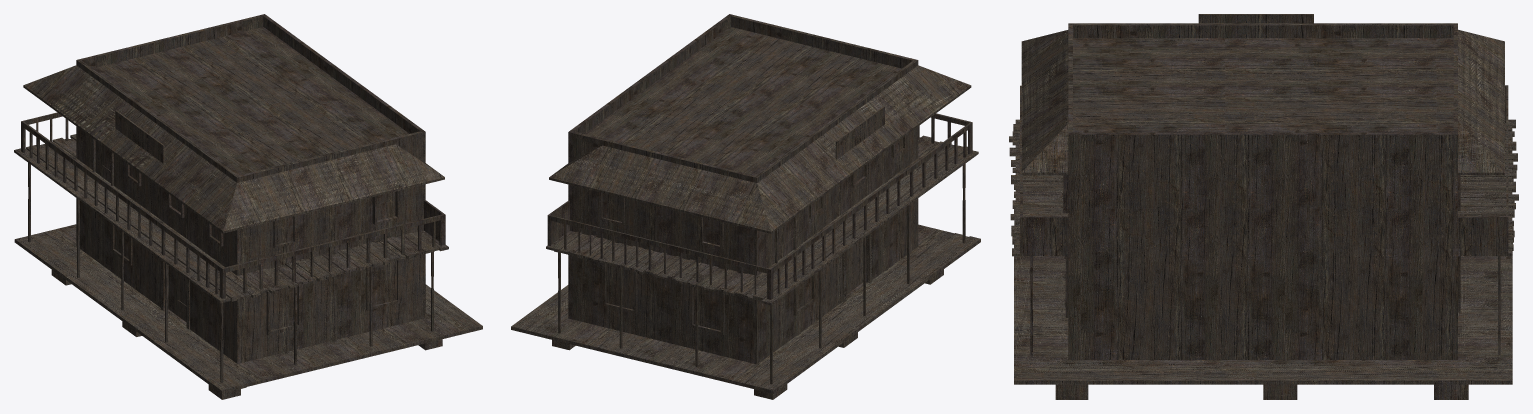
The model's file is House 1.fbx.
3 views of the same model, side by side, from view 1: azimuth 30°, elevation 25°; view 2: azimuth 150°, elevation 25°; view 3: azimuth 270°, elevation 25° (orthographic). The views are drawn at different scales.
Visible parts, largest first — view 1: Model; view 2: Model; view 3: Model.
Boxes of the visible parts, x1=… form: Model: x1=14, y1=14, x2=482, y2=399; Model: x1=511, y1=14, x2=980, y2=399; Model: x1=1009, y1=14, x2=1518, y2=399.
Size of the model in its own units: 62.44 by 48.57 by 86.86.
